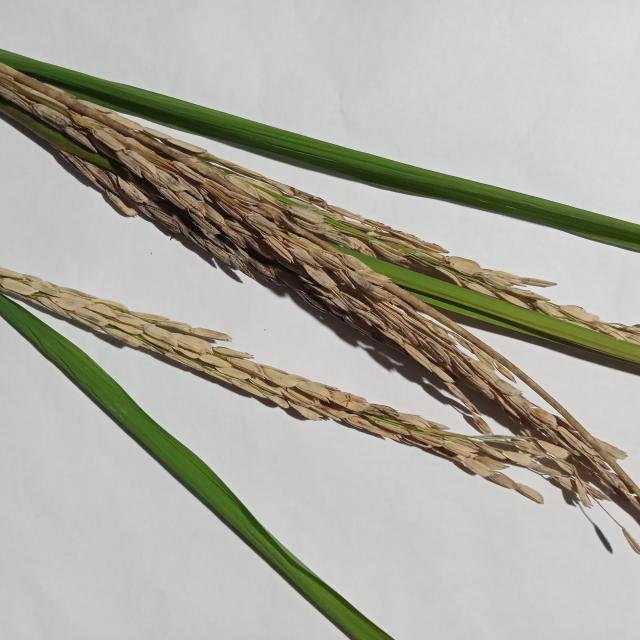Neck_Blast: (0, 73, 640, 504), (0, 264, 544, 504)
